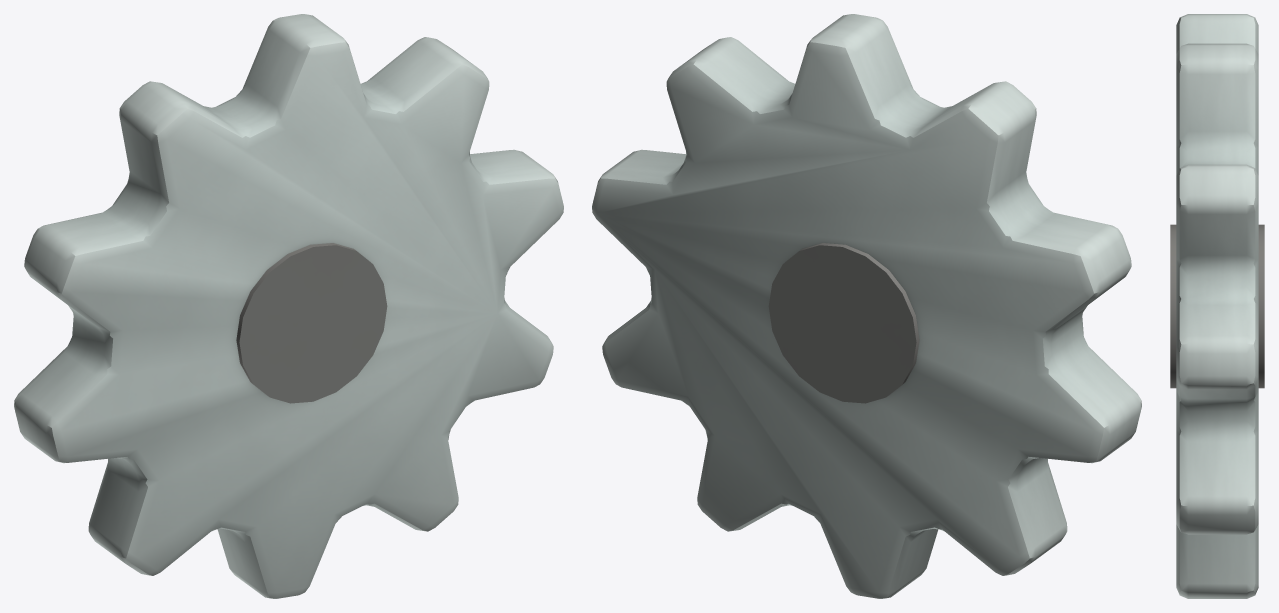
Rendered from Gear.fbx.
The picture shows the model from 3 angles, left to right: view 1: azimuth 30°, elevation 25°; view 2: azimuth 150°, elevation 25°; view 3: azimuth 270°, elevation 25°; orthographic projection. The views are drawn at different scales.
Parts seen in each view (by area): view 1: Gear; view 2: Gear; view 3: Gear.
Part boxes in pixels (bbox=[...]): Gear: bbox=[14, 14, 563, 598]; Gear: bbox=[592, 14, 1141, 598]; Gear: bbox=[1170, 14, 1264, 598].
Size of the model in its own units: 97.84 by 99.69 by 16.
